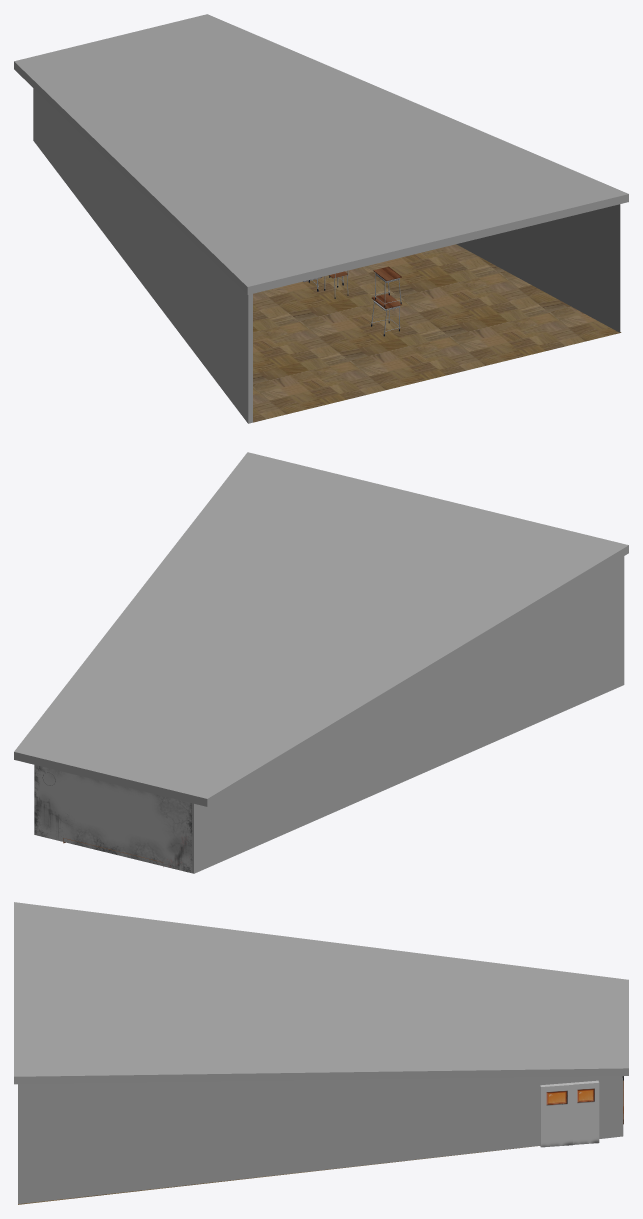
File: classroom_2011.fbx
3 views of the same model, one above another, from view 1: azimuth 30°, elevation 25°; view 2: azimuth 150°, elevation 25°; view 3: azimuth 270°, elevation 25° (orthographic). The views are drawn at different scales.
Parts seen in each view (by area): view 1: ceiling, floor_, wall4, wall1; view 2: ceiling, wall4, wall2; view 3: ceiling, wall1, pCube37, pCube32, floor_.
Part boxes in pixels (<box>): ceiling: <box>14,14,628,294</box>; floor_: <box>253,244,621,422</box>; wall4: <box>33,88,252,423</box>; wall1: <box>456,204,620,332</box>; ceiling: <box>14,452,628,806</box>; wall4: <box>192,556,624,873</box>; wall2: <box>34,765,192,873</box>; ceiling: <box>14,902,628,1084</box>; wall1: <box>18,1076,623,1203</box>; pCube37: <box>540,1082,572,1147</box>; pCube32: <box>572,1080,599,1144</box>; floor_: <box>18,1146,537,1204</box>.
Bounding box in the file's own units: 801 × 279 × 1192.
Materials: 10 (9 with a texture image).
